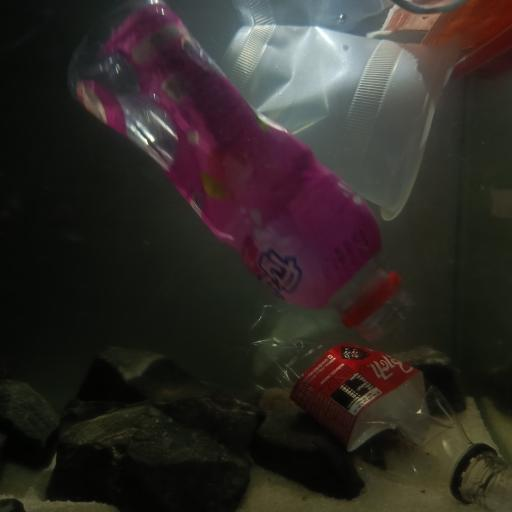mask: (374, 0, 512, 72)
plastic_bottle: (68, 4, 409, 336), (254, 303, 508, 501)
plastic_cup: (217, 22, 455, 222)
